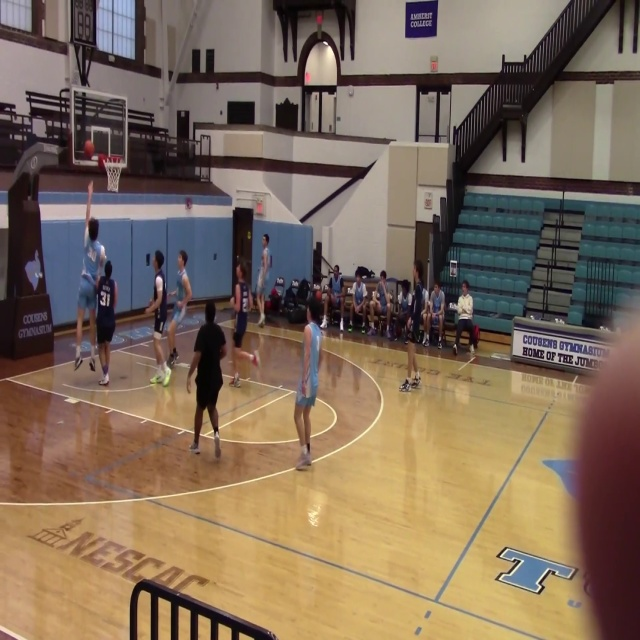Basketball: (83, 140, 94, 157), (98, 154, 108, 172), (314, 290, 322, 300), (321, 292, 328, 301)
